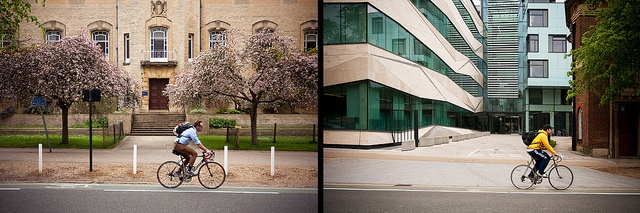non-vehicle: (157, 149, 225, 188), (510, 153, 574, 190)
